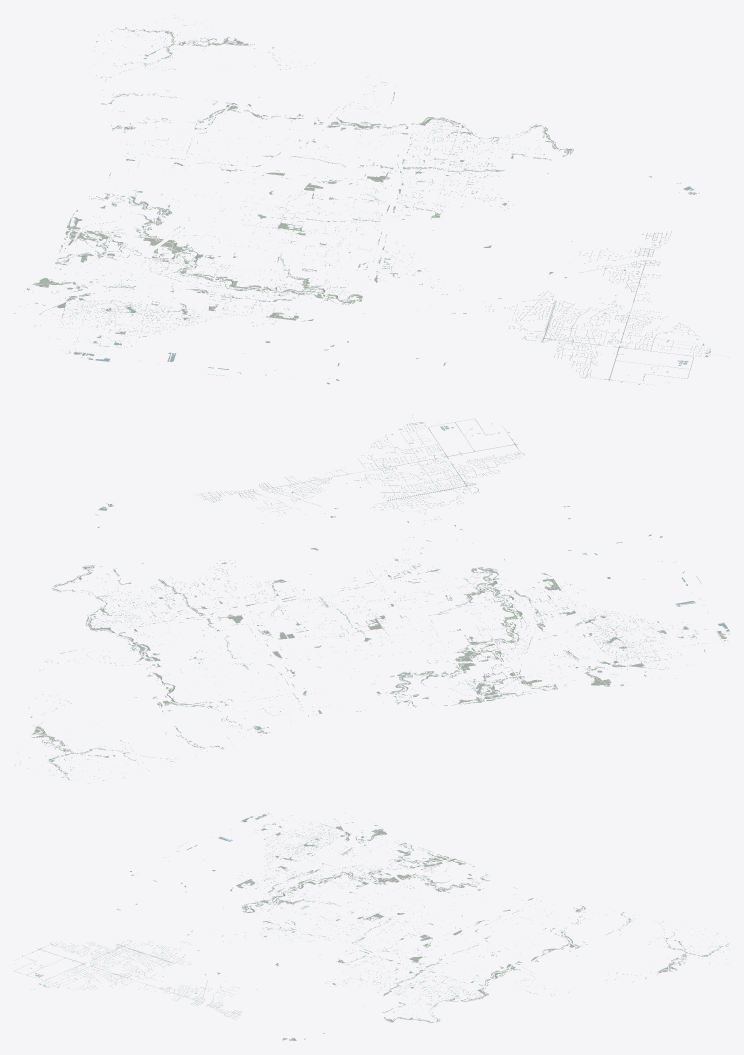
File: citywide-context-11.glb
3 views of the same model, one above another, from view 1: azimuth 30°, elevation 25°; view 2: azimuth 150°, elevation 25°; view 3: azimuth 270°, elevation 25° (orthographic). The views are drawn at different scales.
Parts seen in each view (by area): view 1: WoodedArea (×2), RoadPaved, Shoreline; view 2: WoodedArea (×2), RoadPaved, Shoreline; view 3: WoodedArea (×2), RoadPaved, Shoreline.
Boxes of the visible parts, x1,y1,x2,y2 form: WoodedArea (×2): [14, 17, 573, 357]; RoadPaved: [484, 231, 729, 385]; Shoreline: [72, 38, 710, 384]; WoodedArea (×2): [15, 537, 729, 783]; RoadPaved: [193, 414, 524, 525]; Shoreline: [17, 422, 729, 753]; WoodedArea (×2): [222, 813, 728, 1022]; RoadPaved: [14, 940, 241, 1019]; Shoreline: [14, 816, 680, 1040].
Bounding box in the file's own units: 19716 × 138 × 26426.
